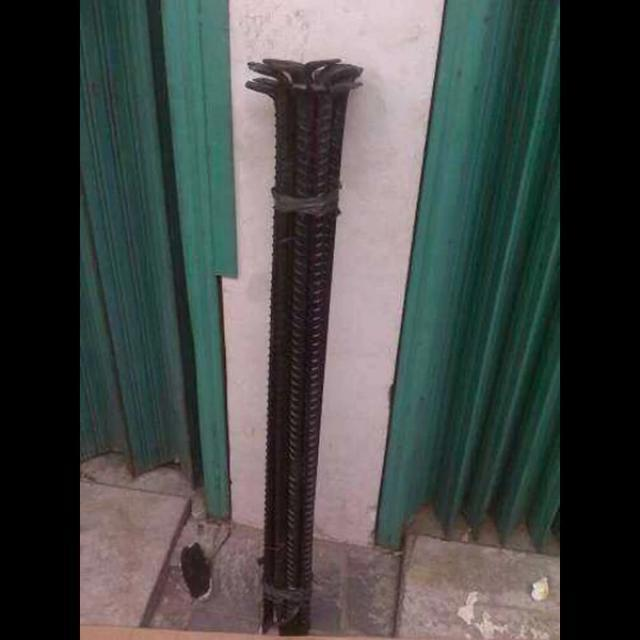Linggis: (237, 45, 377, 640)
